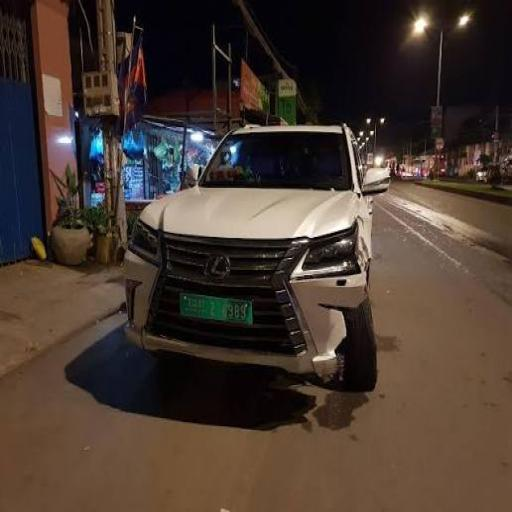Plate Number: (177, 292, 255, 328)
